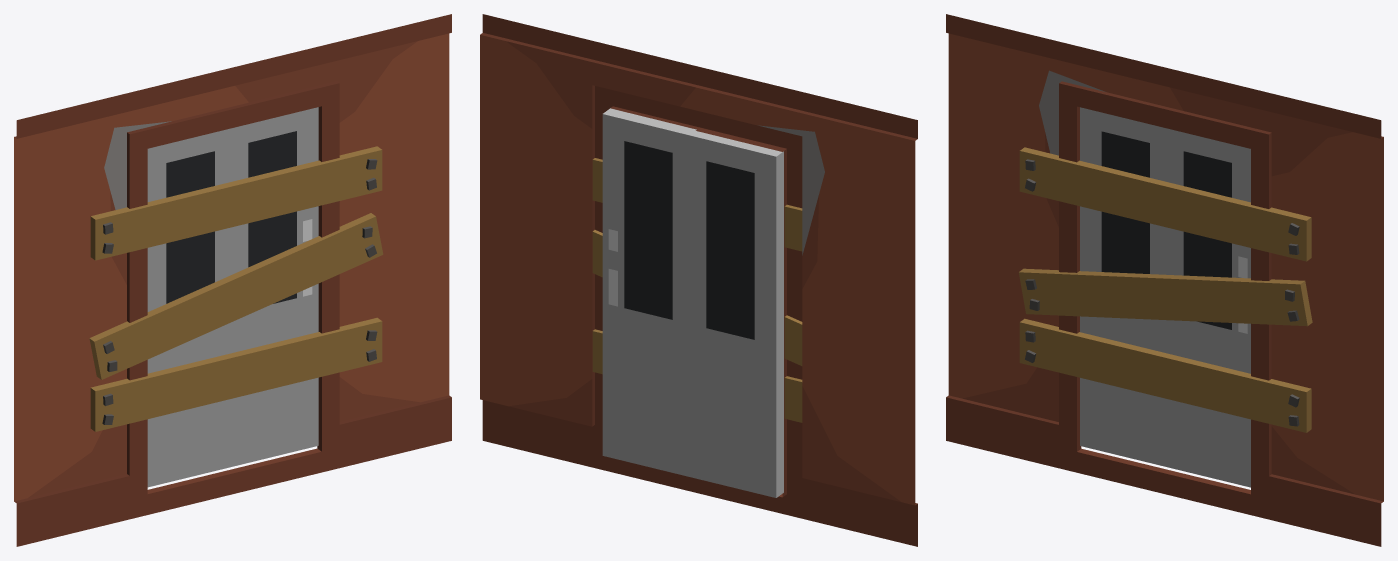
Rendered from AI_Env_Wall_Red_BlockedDoor_01.fbx.
3 views of the same model, side by side, from view 1: azimuth 30°, elevation 25°; view 2: azimuth 150°, elevation 25°; view 3: azimuth 330°, elevation 25° (orthographic).
Visible parts, largest first — view 1: AI_Env_Wall_Red_BlockedDoor_01; view 2: AI_Env_Wall_Red_BlockedDoor_01; view 3: AI_Env_Wall_Red_BlockedDoor_01.
Part boxes in pixels (bbox=[...]): AI_Env_Wall_Red_BlockedDoor_01: bbox=[14, 14, 451, 546]; AI_Env_Wall_Red_BlockedDoor_01: bbox=[480, 14, 917, 546]; AI_Env_Wall_Red_BlockedDoor_01: bbox=[946, 14, 1383, 546].
Bounding box in the file's own units: 5 × 4.69 × 0.3005.
